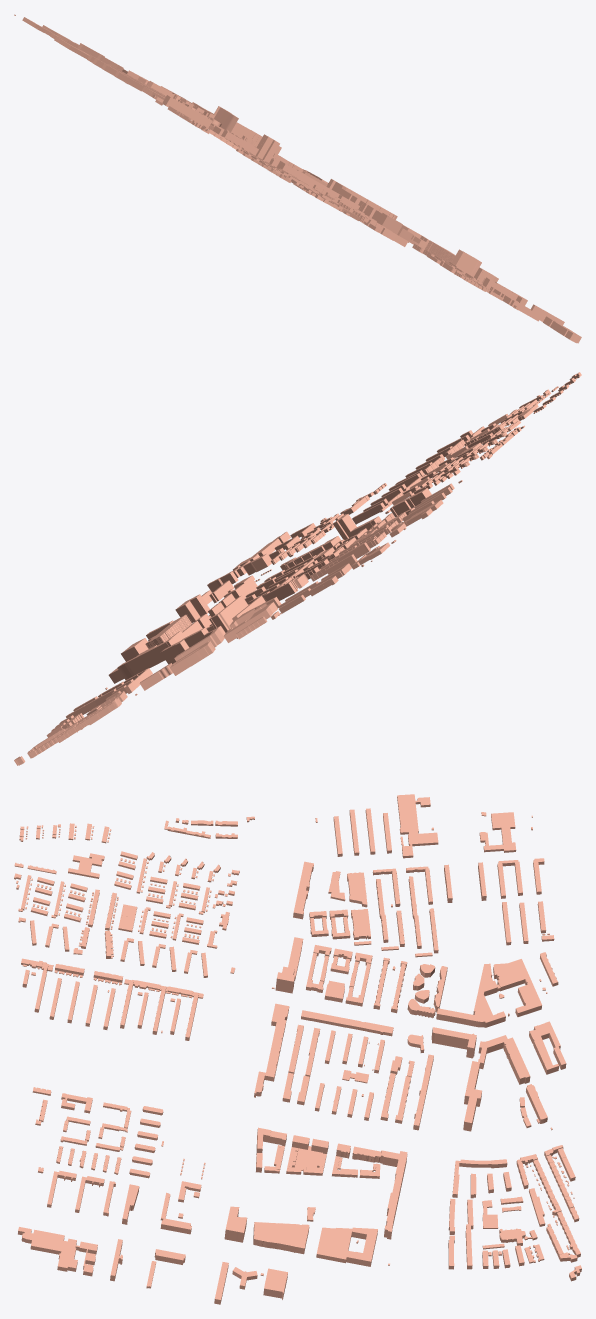
The picture shows the model from 3 angles, top to bottom: view 1: azimuth 30°, elevation 25°; view 2: azimuth 150°, elevation 25°; view 3: azimuth 270°, elevation 25°; orthographic projection. The views are drawn at different scales.
Size of the model in its own units: 1057 by 782 by 1276.
